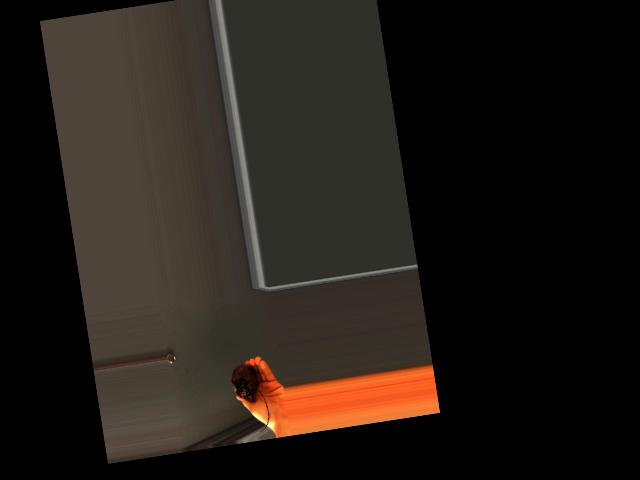beet: (228, 353, 272, 434)
